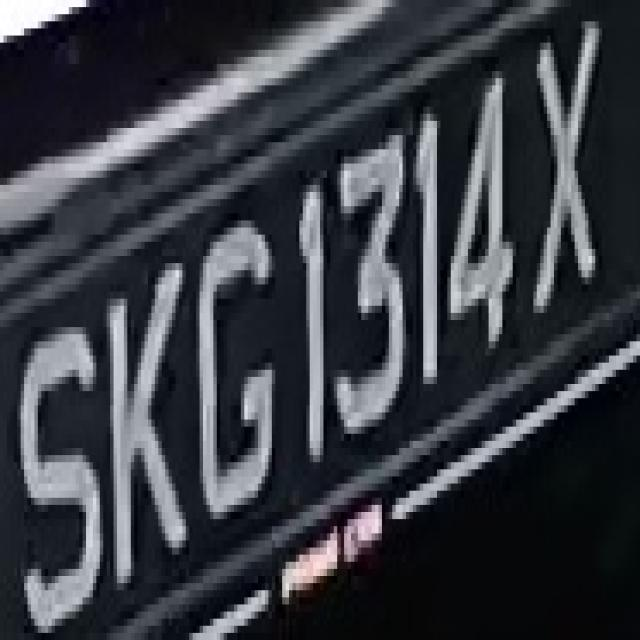1: (416, 64, 454, 427), (292, 171, 330, 462)
3: (327, 135, 416, 455)
4: (437, 42, 513, 356)
G: (186, 207, 279, 540)
K: (96, 249, 182, 590)
S: (17, 291, 103, 640)
X: (530, 14, 612, 313)
